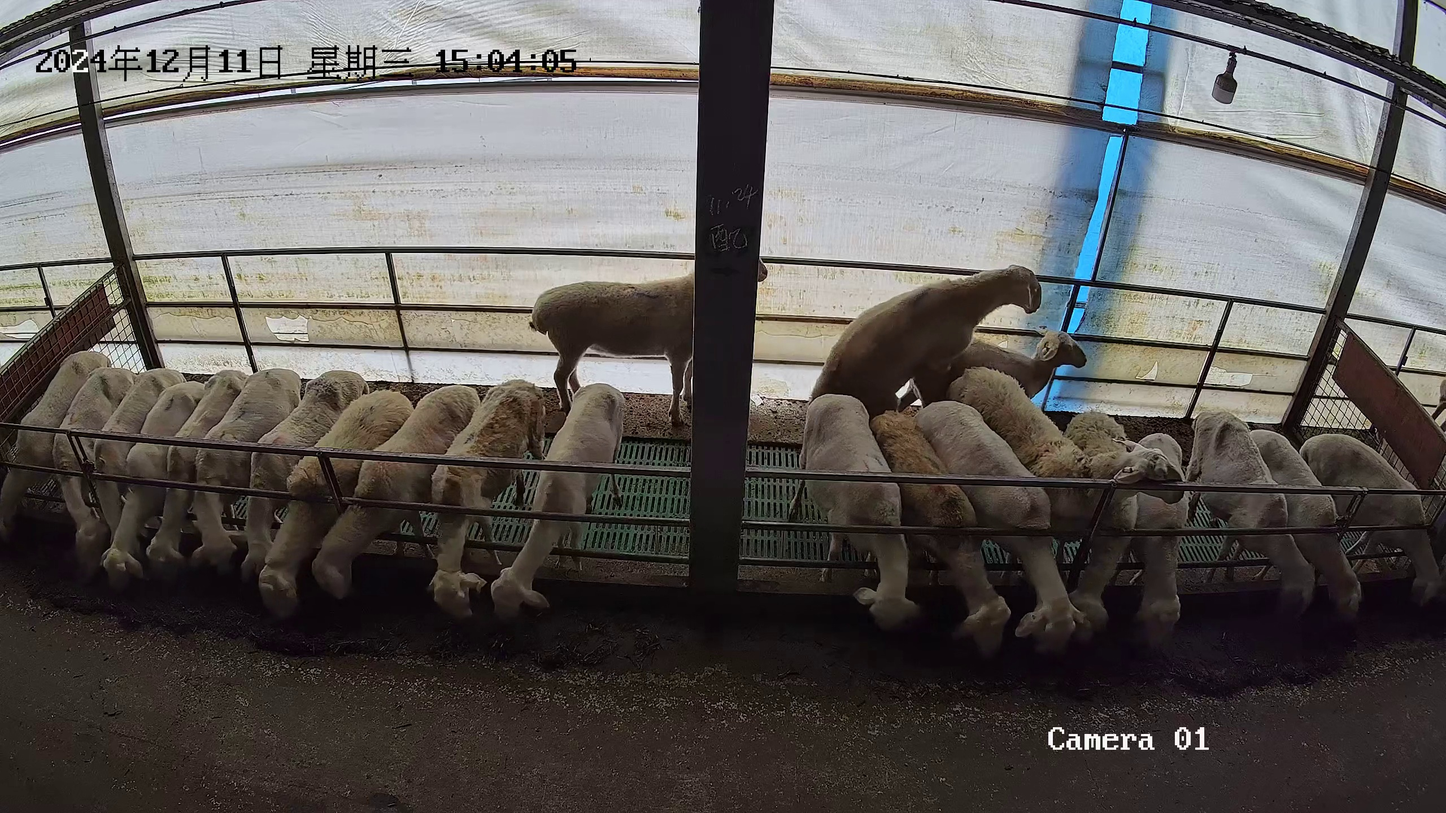Smounting: (809, 263, 1093, 419)
mounted: (935, 326, 1089, 401)
